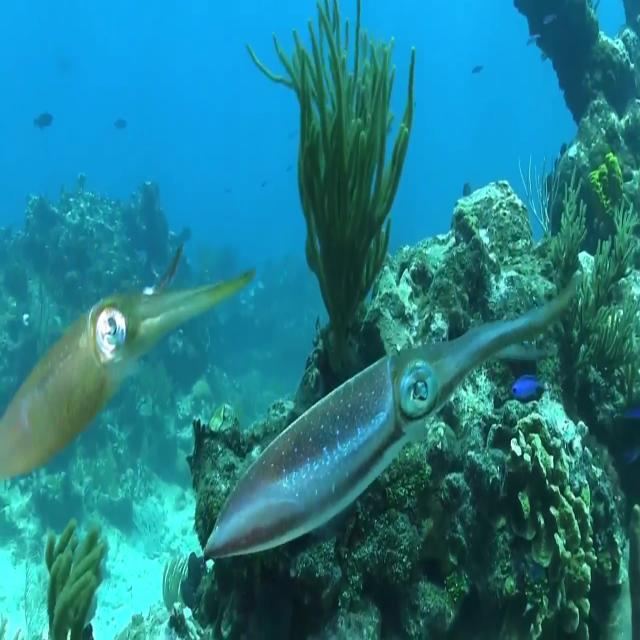squid: (203, 274, 578, 559), (0, 267, 258, 485)
